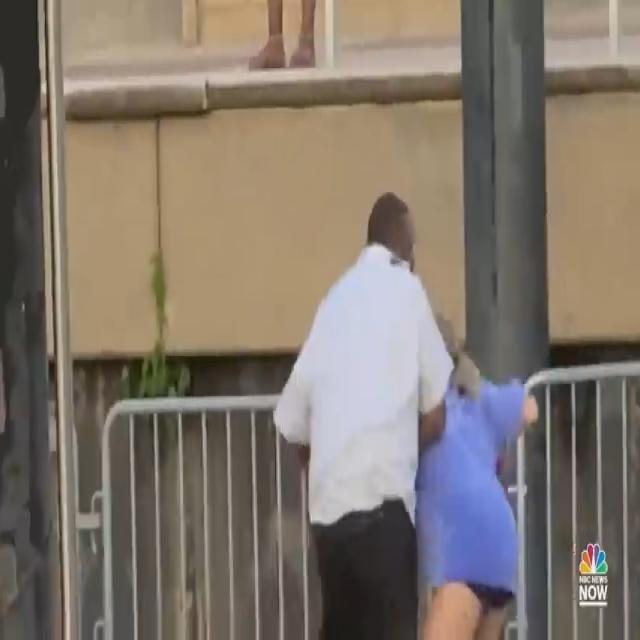fight: (271, 178, 539, 640)
